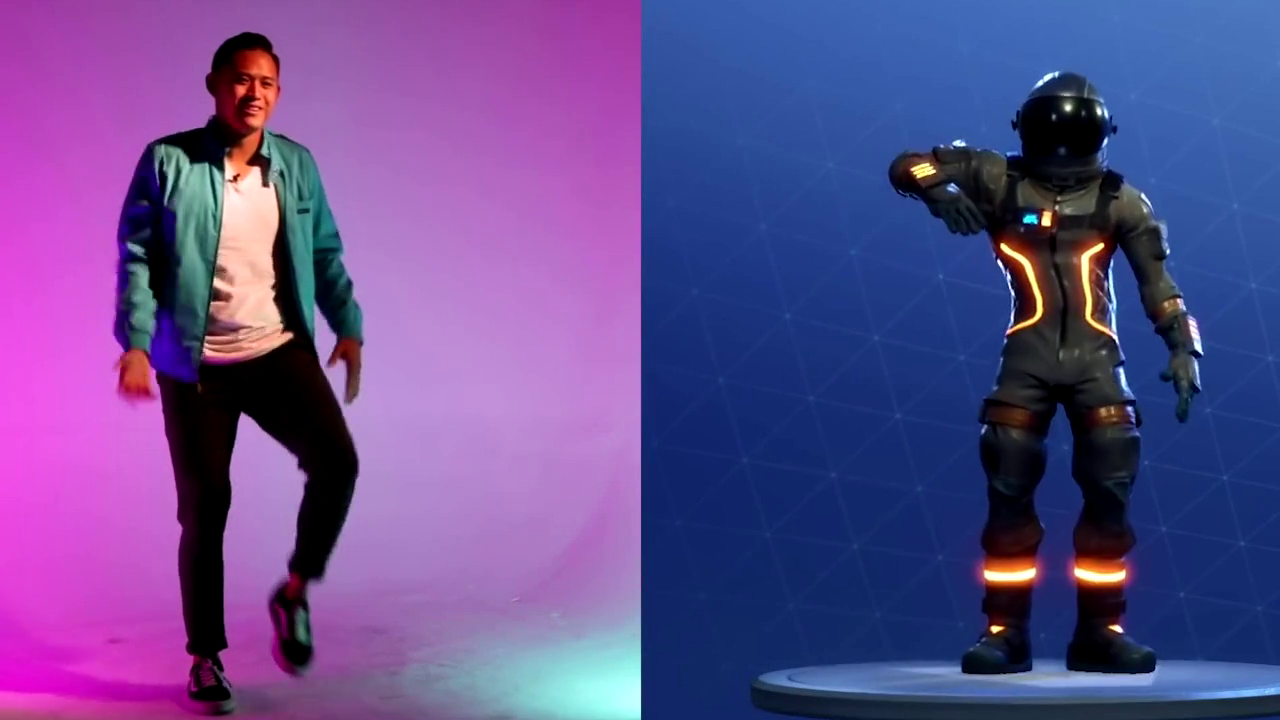Head: (195, 25, 295, 142)
Hip: (153, 344, 361, 438)
LeftAnkle: (250, 565, 352, 686)
LeftElbow: (287, 225, 371, 287)
LeftKnee: (290, 427, 390, 521)
LeftShoulder: (249, 121, 343, 215)
LeftWrist: (302, 318, 389, 400)
RightAnkle: (163, 616, 264, 718)
RightElbow: (94, 210, 176, 280)
RightKnee: (158, 484, 256, 570)
RightShoulder: (128, 113, 209, 193)
RightWrist: (97, 327, 185, 426)
Torso: (158, 130, 329, 360)
